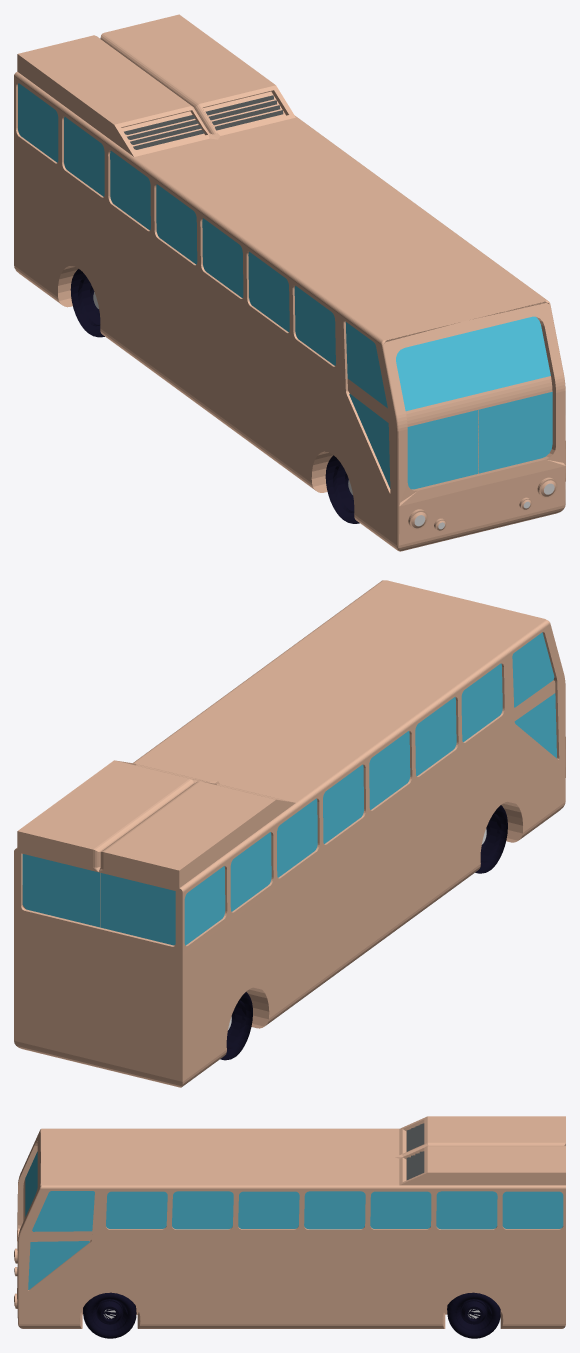
File: bus.fbx
3 renders of one model, top to bottom at view 1: azimuth 30°, elevation 25°; view 2: azimuth 150°, elevation 25°; view 3: azimuth 270°, elevation 25°, orthographic. The views are drawn at different scales.
Parts seen in each view (by area): view 1: Bus, Cylinder; view 2: Bus, Cylinder; view 3: Bus, Cylinder.
Part boxes in pixels (x1,y1,x2,y2): Bus: (14, 14, 565, 551); Cylinder: (70, 269, 359, 523); Bus: (14, 580, 565, 1087); Cylinder: (220, 805, 507, 1060); Bus: (14, 1116, 565, 1328); Cylinder: (83, 1292, 500, 1338).
Bounding box in the file's own units: 365 × 490 × 1446.
